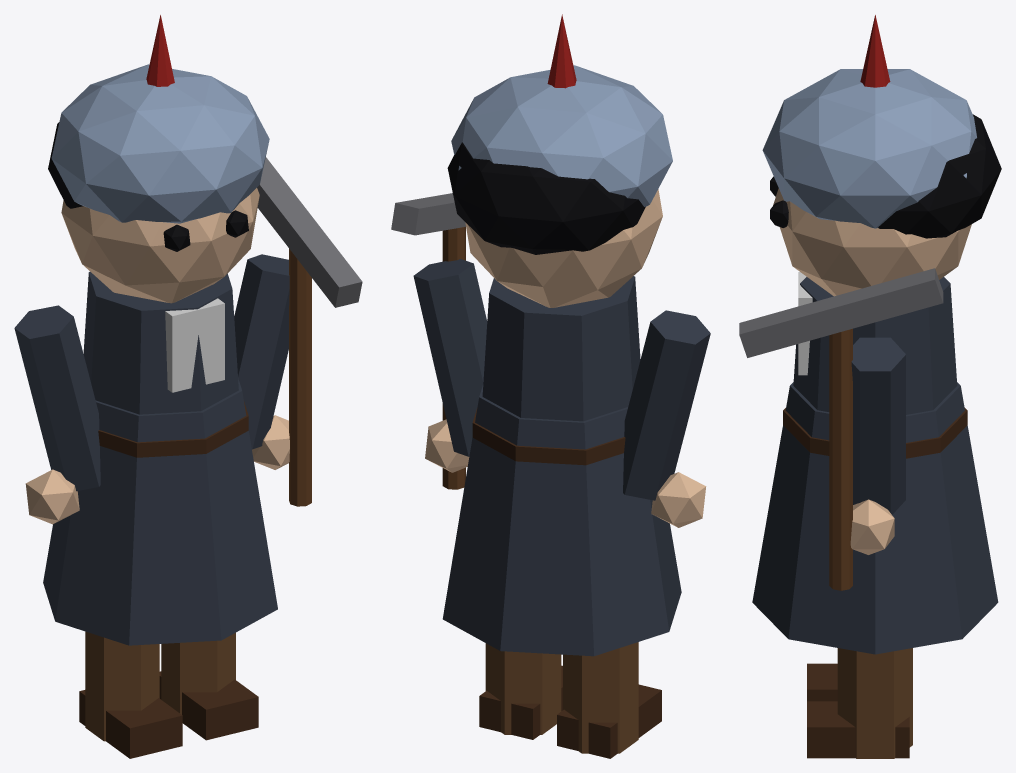
File: SM_GZ_npc_miner.fbx
3 renders of one model, left to right at view 1: azimuth 30°, elevation 25°; view 2: azimuth 150°, elevation 25°; view 3: azimuth 270°, elevation 25°, orthographic.
Parts seen in each view (by area): view 1: SM_GZ_npc_miner; view 2: SM_GZ_npc_miner; view 3: SM_GZ_npc_miner.
Boxes of the visible parts, box(x1,y1,x2,y2) form: SM_GZ_npc_miner: box(14, 15, 362, 758); SM_GZ_npc_miner: box(391, 14, 710, 758); SM_GZ_npc_miner: box(739, 15, 1001, 758).
Bounding box in the file's own units: 94.71 × 230 × 76.84.
